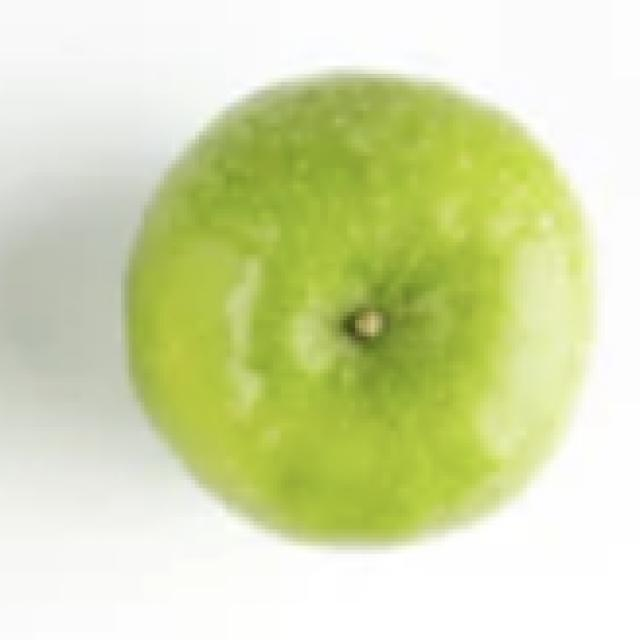Fresh Apple: (127, 73, 575, 500)
